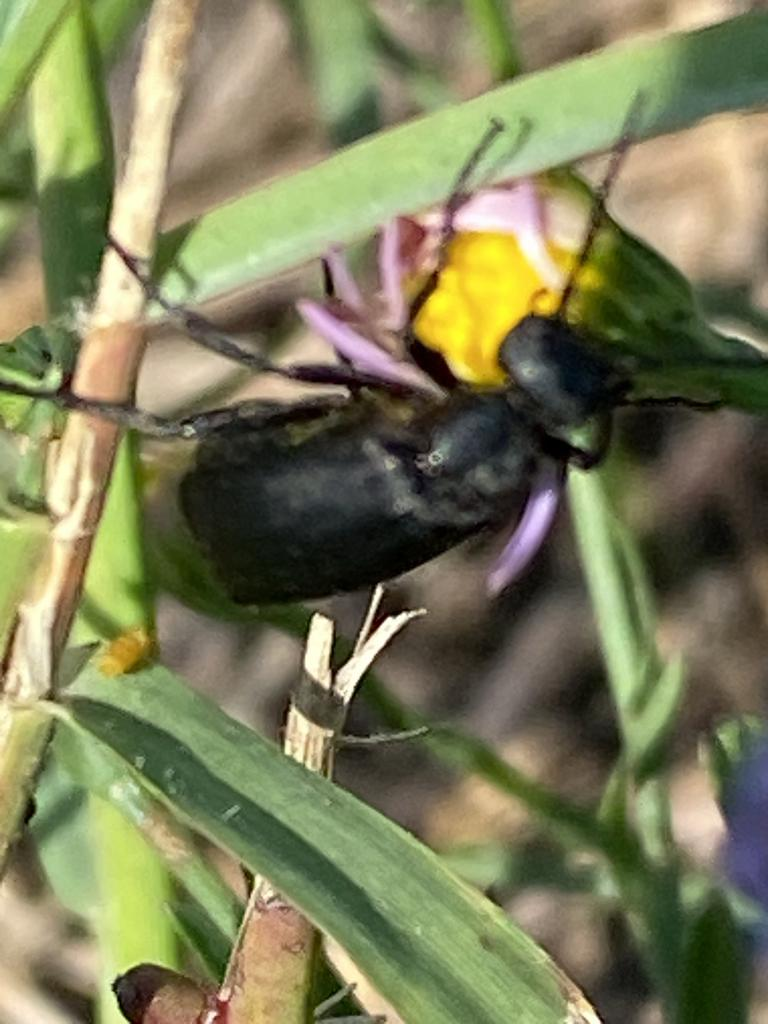blister_beetle: (0, 42, 768, 721)
